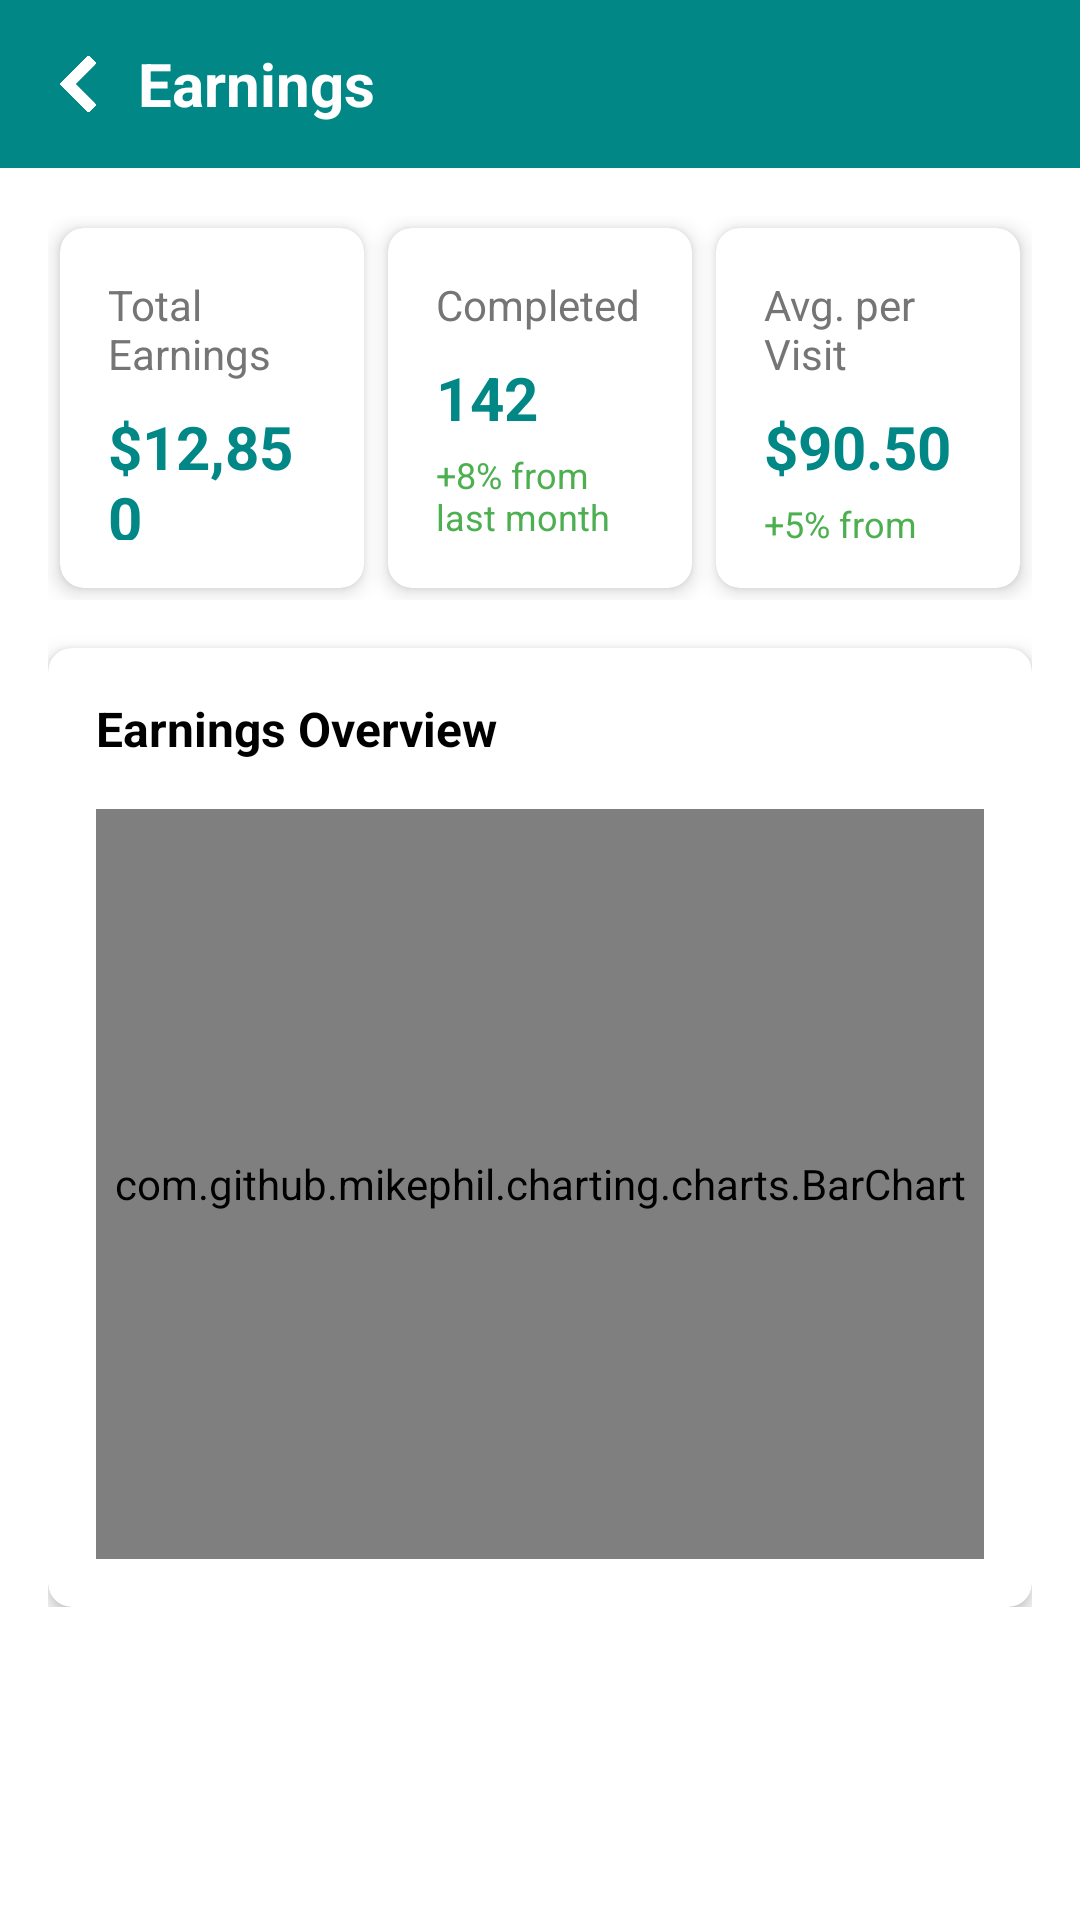

Named icons in this screenshot (1080 x 1920) and their centers, (x,y):
Back Button: (78,84)
